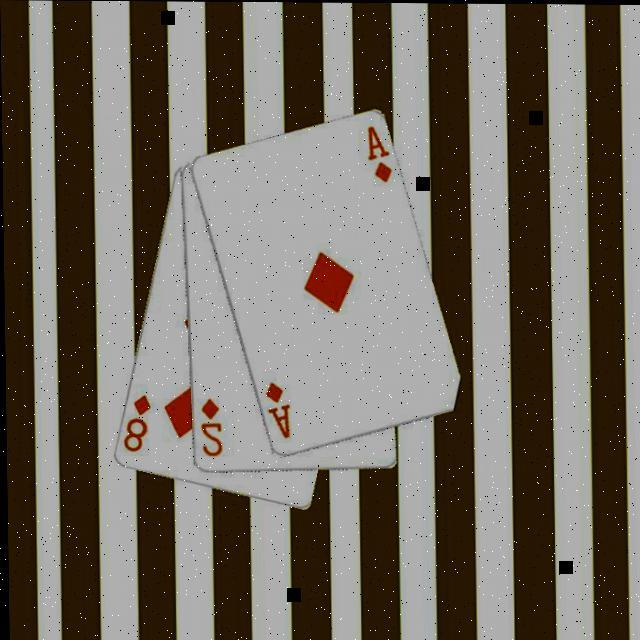2D: (197, 395, 224, 459)
8D: (120, 390, 155, 454)
AD: (262, 378, 293, 440), (366, 122, 396, 184)
